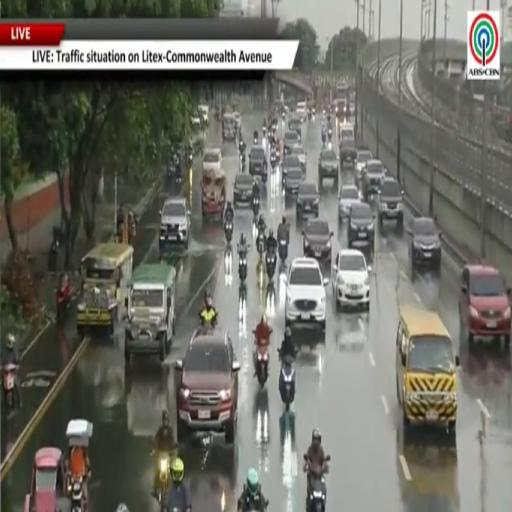car: (396, 307, 459, 438), (174, 327, 240, 443), (459, 264, 511, 347), (285, 258, 328, 331), (24, 447, 70, 511), (332, 249, 369, 309), (408, 217, 441, 271), (159, 197, 190, 253), (302, 219, 333, 263), (377, 176, 403, 228), (348, 202, 374, 249), (361, 159, 385, 200), (282, 155, 304, 195), (297, 182, 320, 218), (318, 149, 338, 185), (339, 185, 360, 219), (233, 173, 253, 205), (355, 148, 372, 184), (249, 146, 267, 177), (340, 138, 357, 167), (283, 131, 300, 155), (203, 149, 221, 171), (292, 144, 306, 171), (288, 118, 302, 143), (339, 123, 354, 143), (198, 103, 209, 127), (295, 102, 306, 121), (191, 109, 201, 129)
jeepney: (77, 243, 133, 335), (125, 264, 176, 362), (201, 169, 226, 218), (222, 114, 236, 142)
motorcycle: (304, 455, 330, 511), (279, 356, 295, 411), (2, 363, 19, 414), (157, 454, 170, 511), (256, 344, 269, 387), (70, 477, 86, 511), (56, 288, 71, 321), (48, 240, 59, 271), (199, 311, 217, 327), (266, 252, 276, 279), (239, 252, 247, 282), (256, 233, 265, 258), (279, 239, 287, 264), (225, 219, 233, 243), (252, 195, 260, 217), (240, 153, 245, 171), (271, 154, 276, 171), (262, 168, 267, 184), (254, 131, 258, 145), (327, 141, 333, 150), (322, 135, 326, 148), (262, 125, 266, 137), (308, 109, 312, 120), (328, 130, 332, 141), (312, 108, 315, 122), (323, 109, 326, 118), (282, 111, 285, 119), (254, 138, 257, 145)
